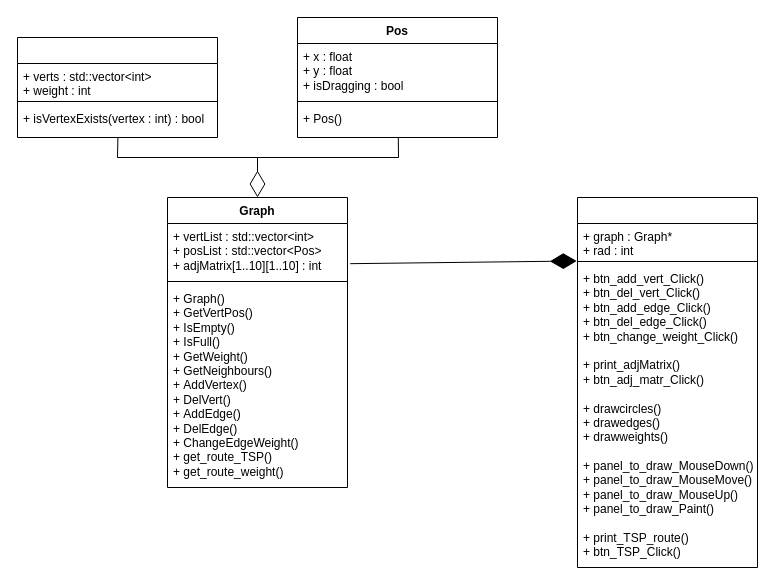
This 775x588 diagram has some shape labels left out. Each missing label, with the box of its shape:
GraphDrawing: (576, 196, 758, 568)
Route: (16, 36, 218, 138)
